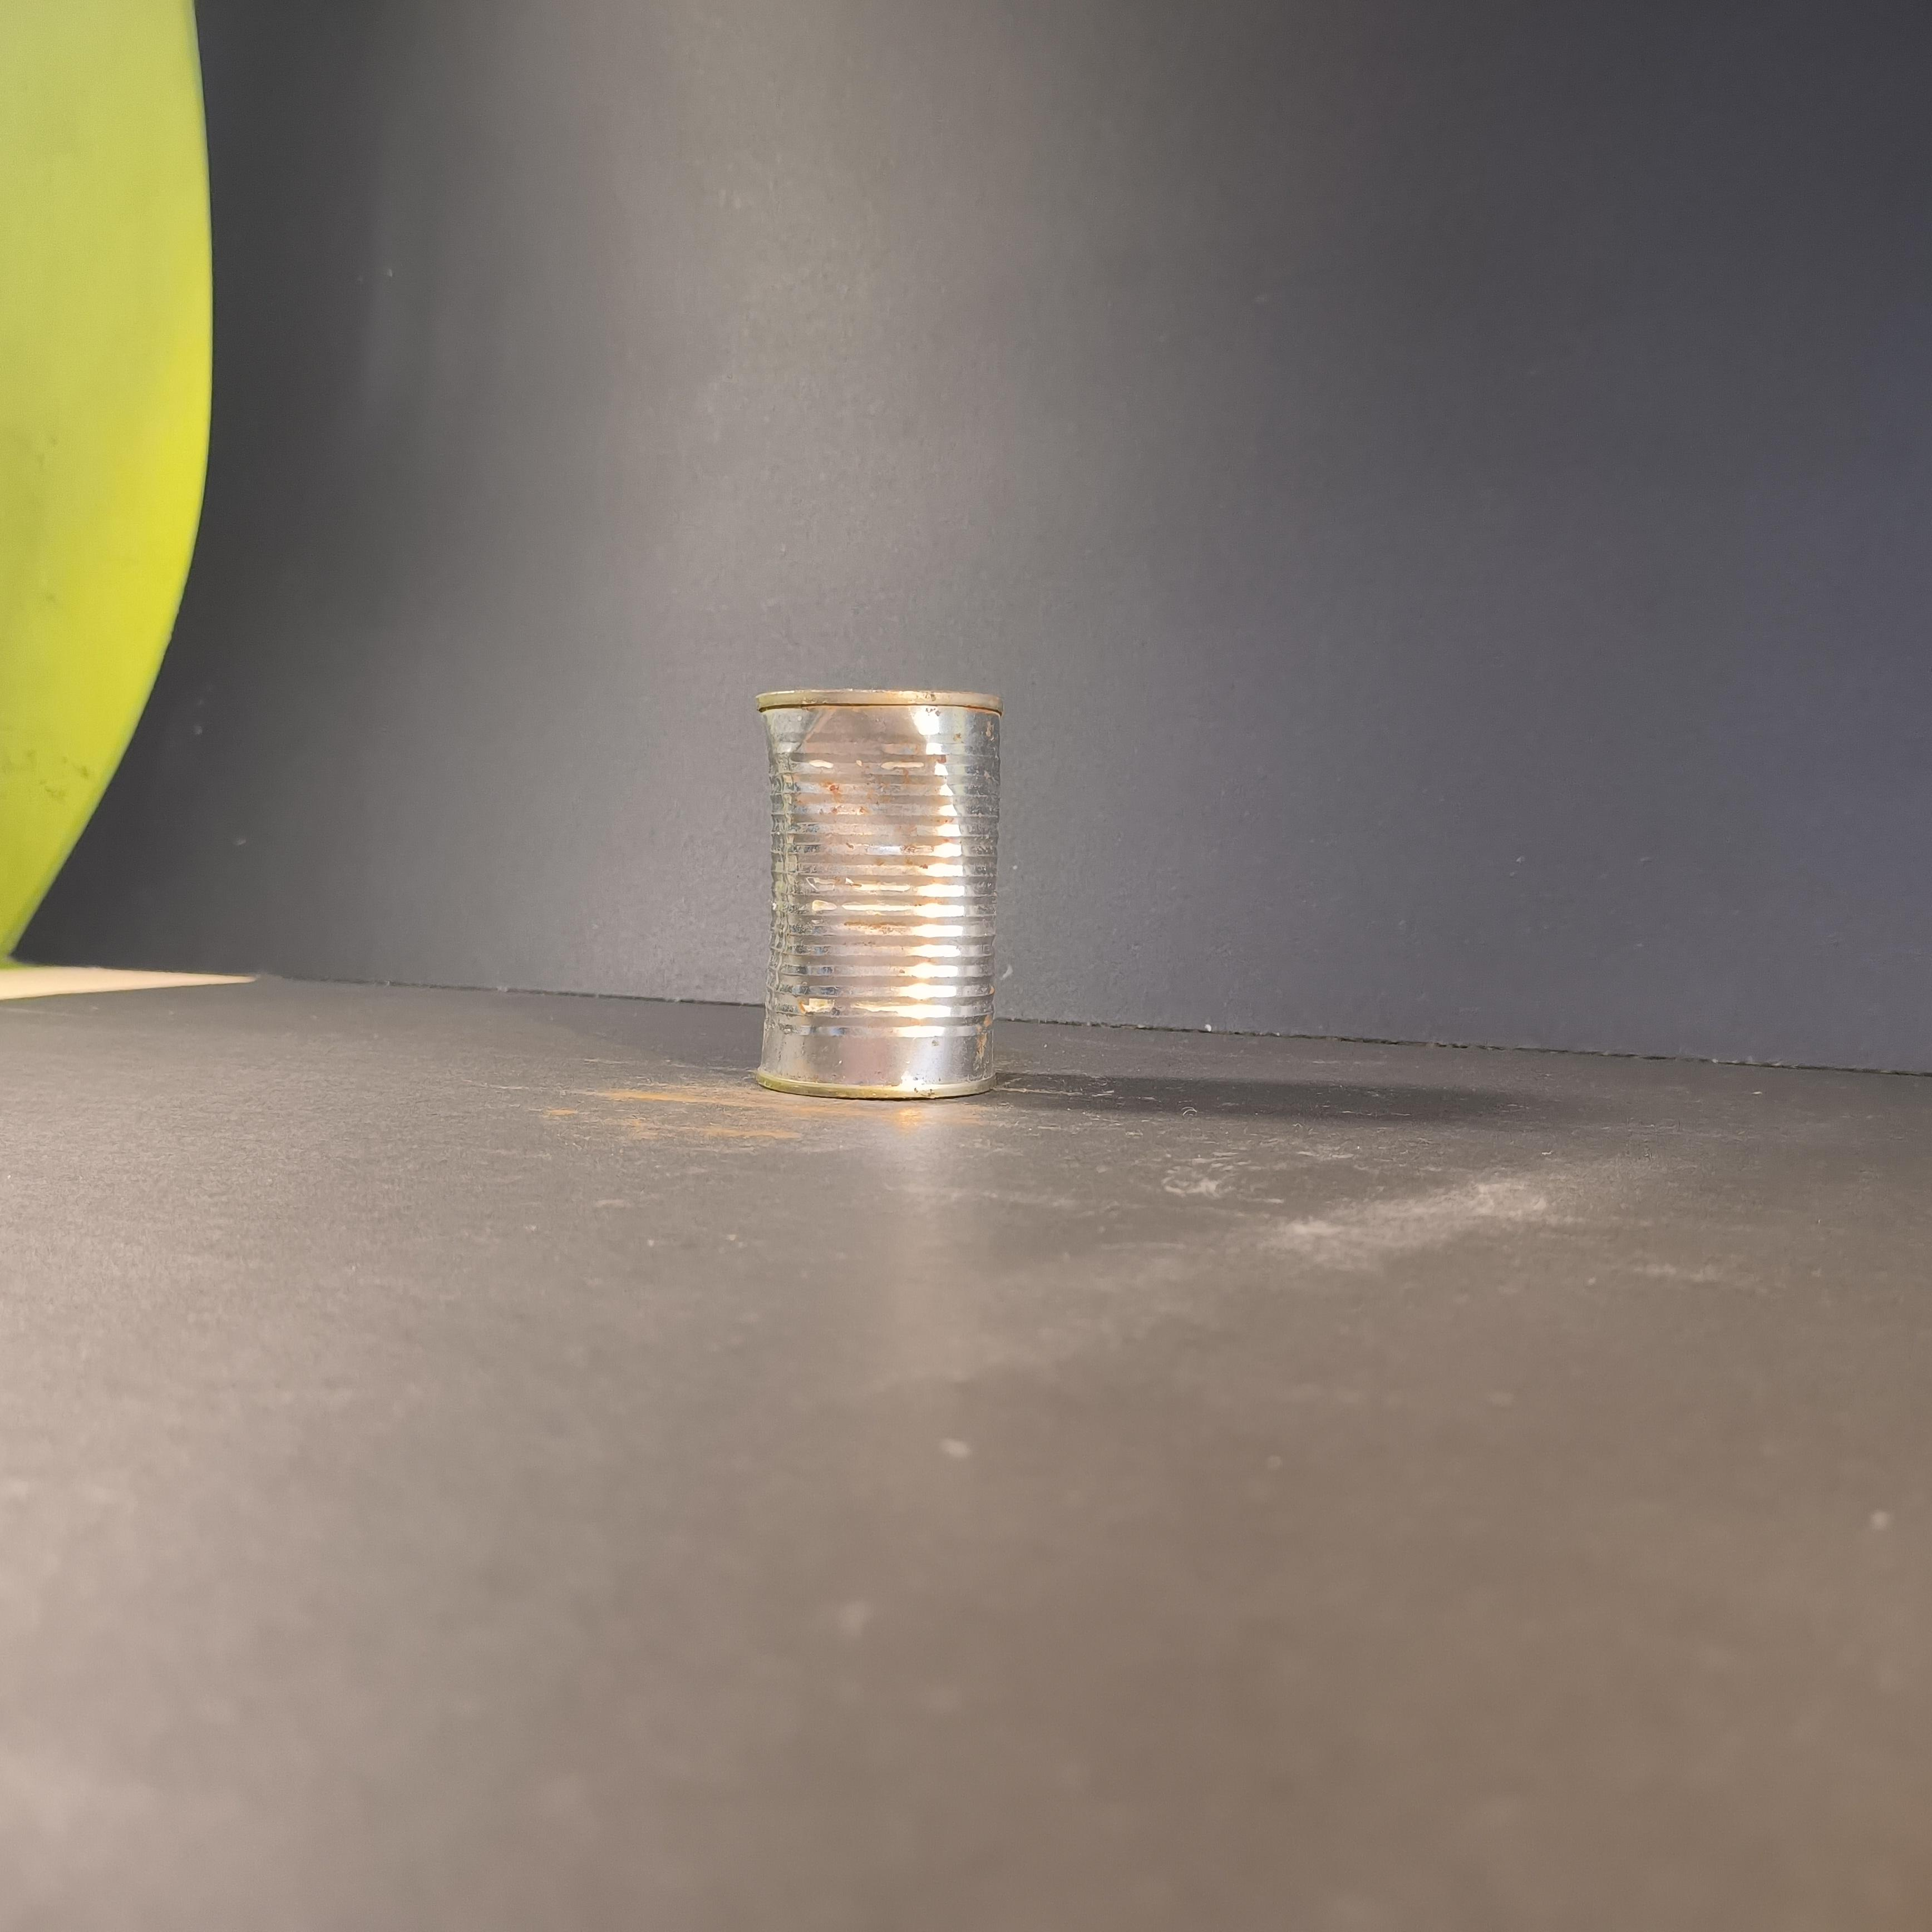Minor Defect: (755, 688, 1003, 1099)
